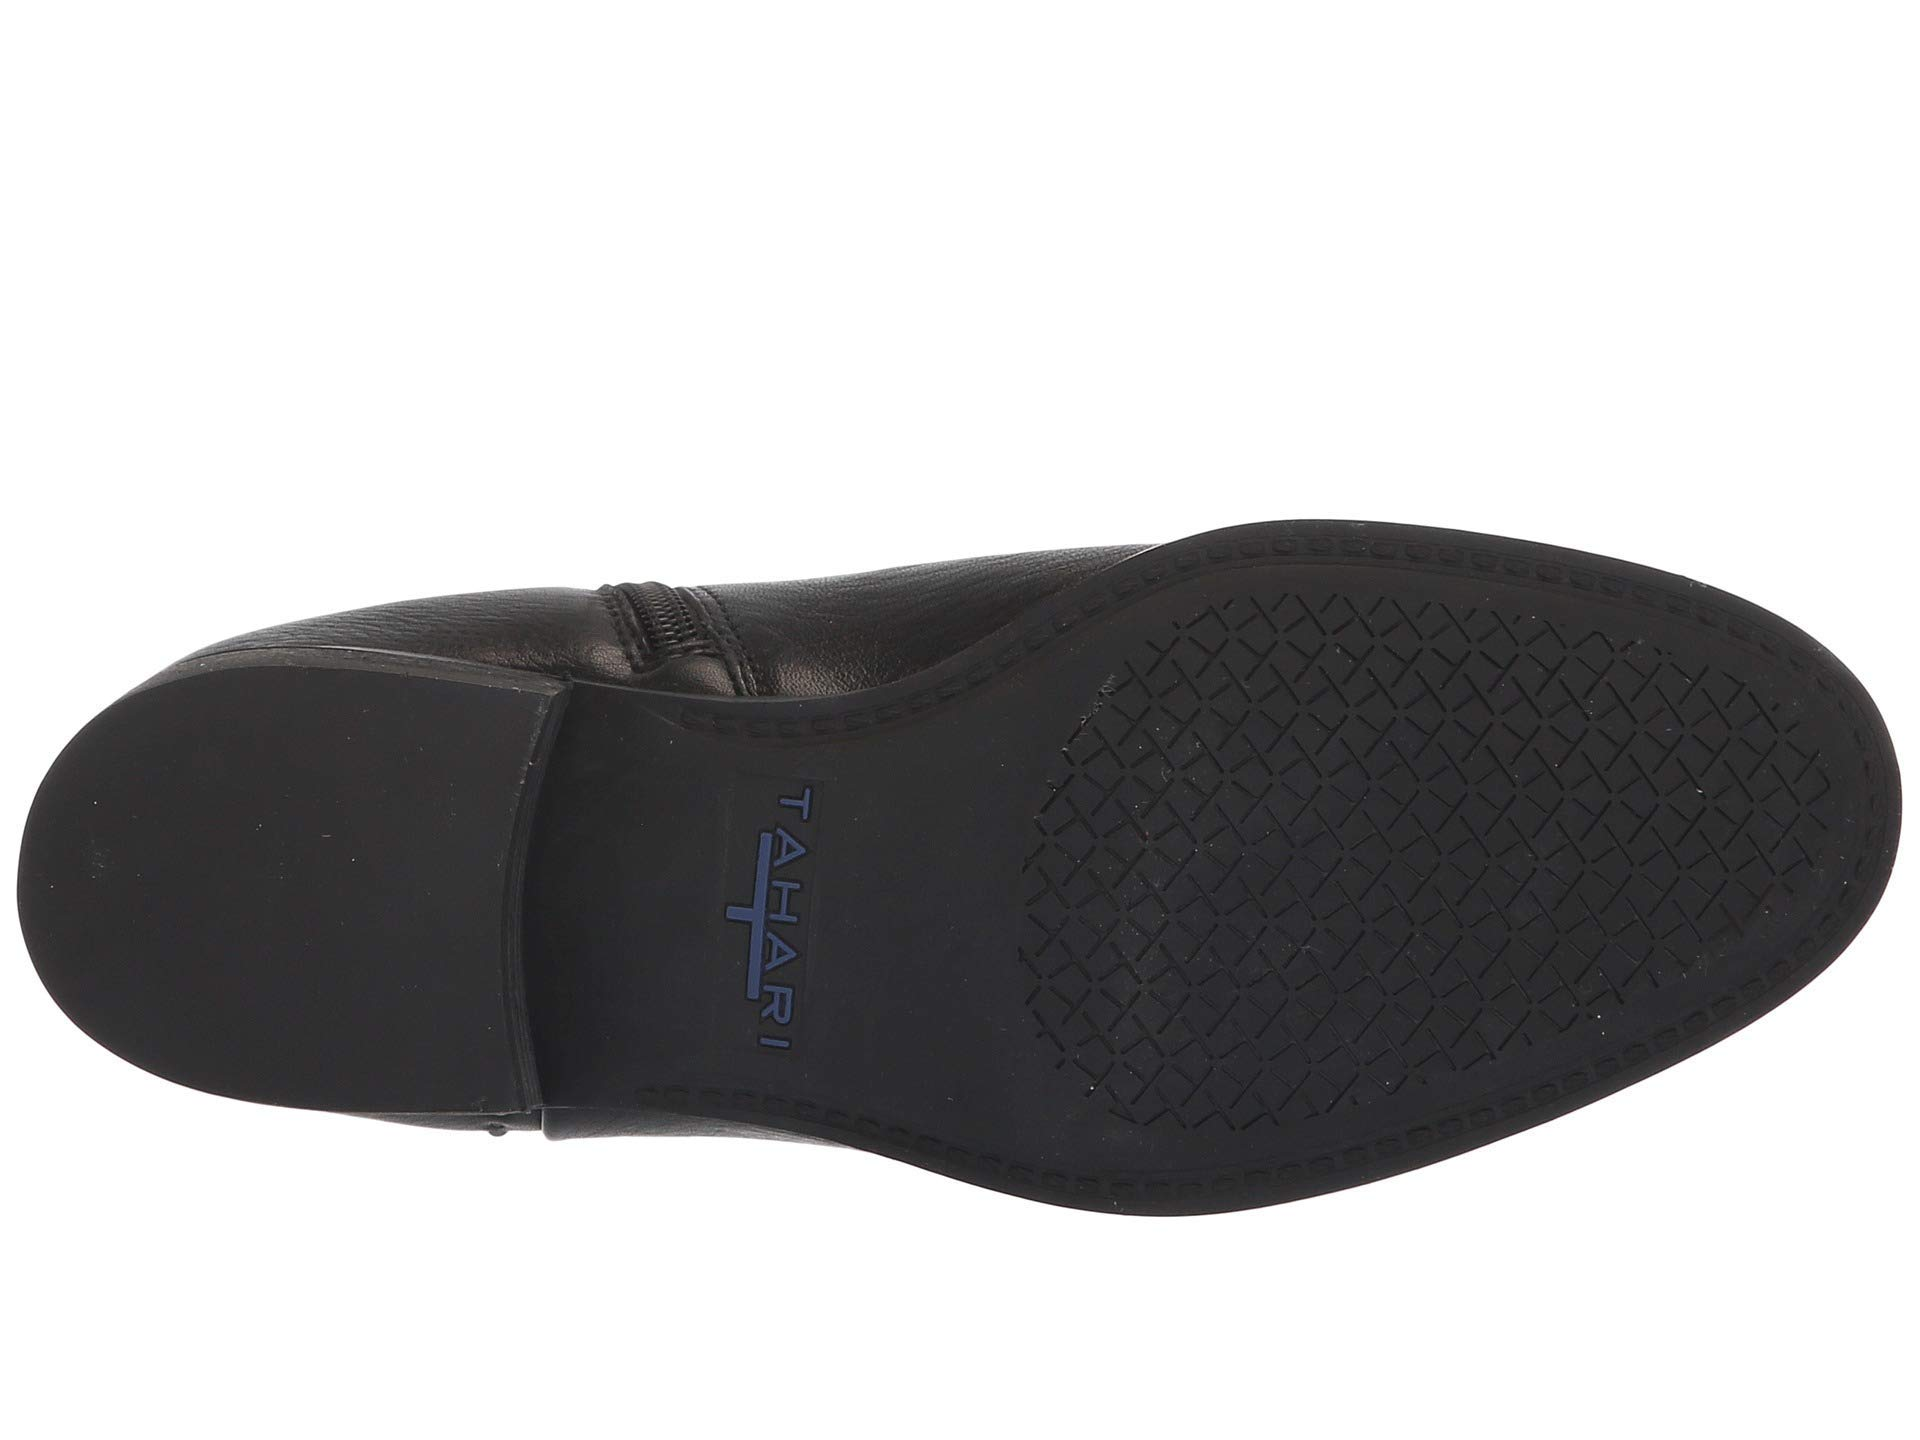exclude: (496, 588, 1082, 1190)
quad: (1197, 638, 1560, 980), (1592, 696, 1801, 905), (1079, 774, 1200, 1103)
